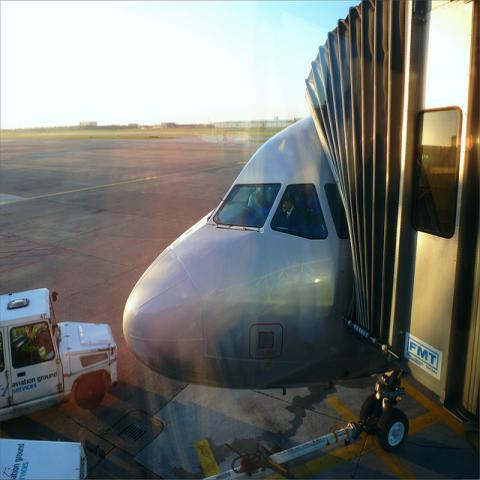truck: (1, 290, 116, 422)
